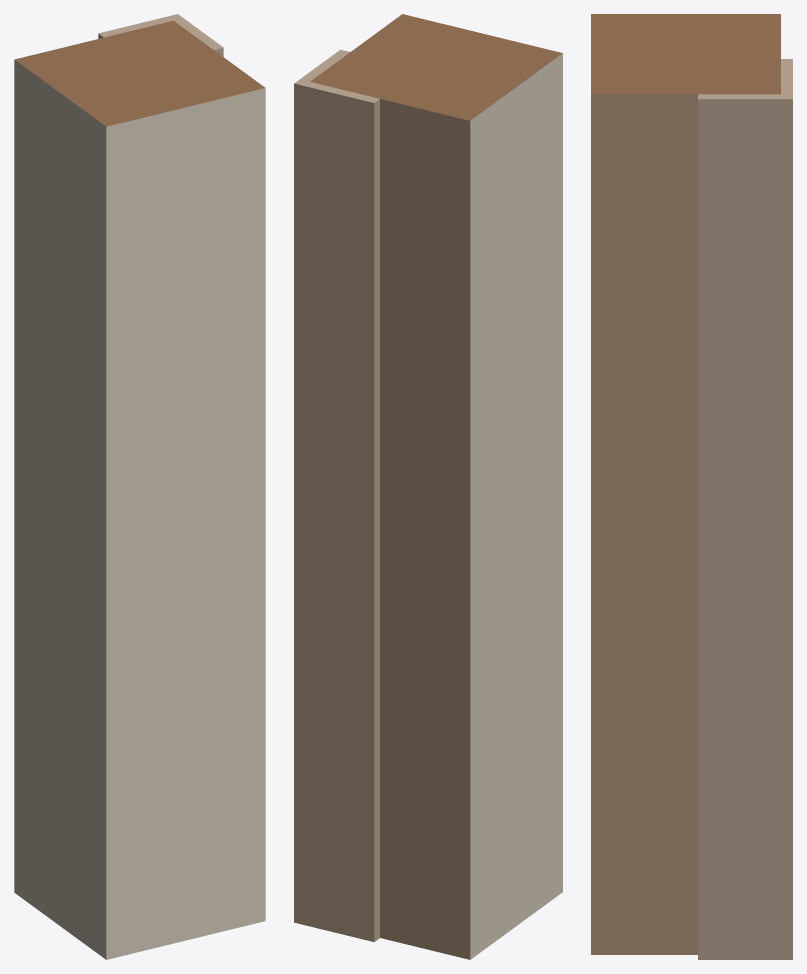
File: Exterior_Wall_Corner.obj
3 renders of one model, left to right at view 1: azimuth 30°, elevation 25°; view 2: azimuth 150°, elevation 25°; view 3: azimuth 270°, elevation 25°, orthographic. The views are drawn at different scales.
Parts seen in each view (by area): view 1: object1; view 2: object1; view 3: object1.
Part boxes in pixels (box(x1,y1,x2,y2)): object1: box(14, 14, 265, 959); object1: box(294, 14, 562, 959); object1: box(591, 14, 792, 959).
Size of the model in its own units: 0.2125 by 1 by 0.2125.
